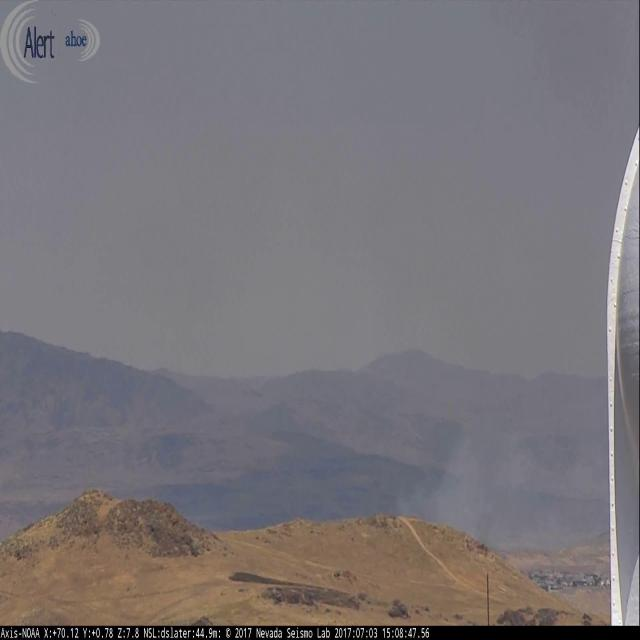smoke: (394, 382, 608, 550)
